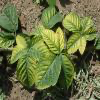Raspberry leaf: (35, 52, 61, 91), (16, 55, 38, 89), (56, 53, 75, 92), (40, 28, 65, 54), (10, 33, 29, 65), (64, 33, 87, 56), (62, 13, 81, 33), (81, 15, 94, 32)
